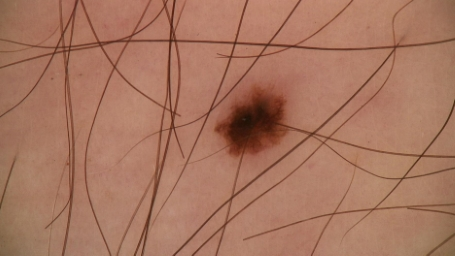nevus: (220, 94, 285, 157)
